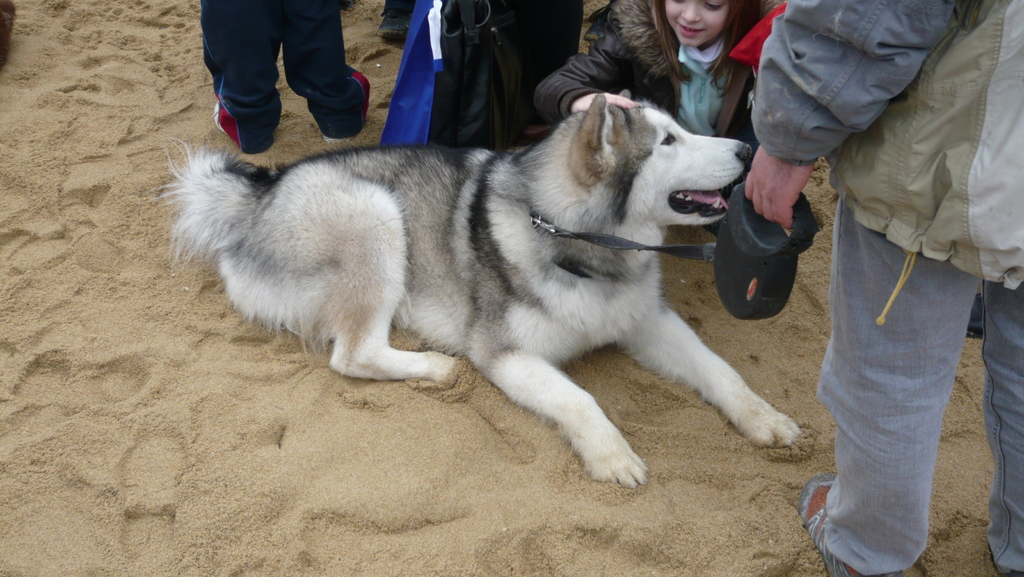Person: (744, 0, 1024, 577), (531, 0, 758, 173), (200, 0, 368, 156)
